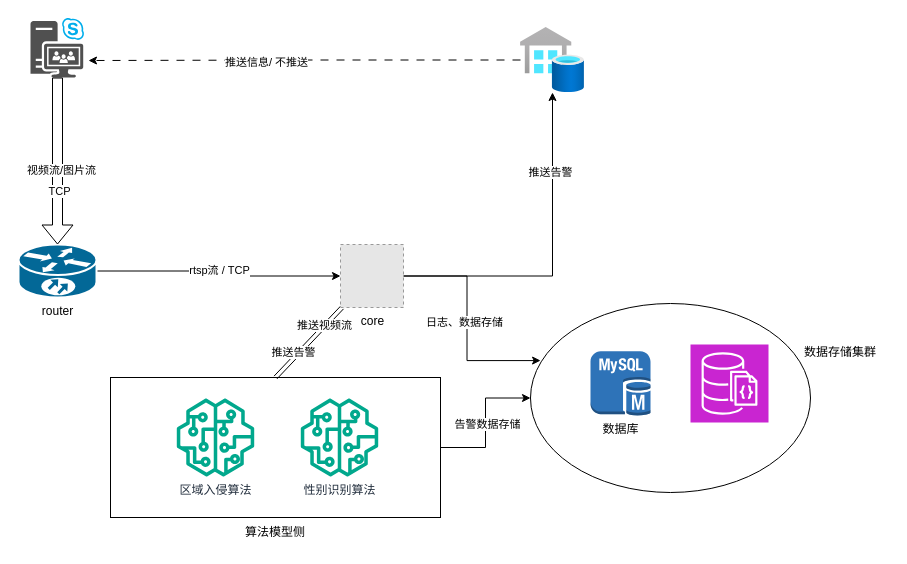
Some shapes in this 907 by 564 pixel diagram are drawn without their labels. Grey dashed boxes stand in for pictures. Here are the shapes that lost their labels. From the top down, the centre of each, then its label:
At point (57, 47): "公安视综平台".
At point (552, 59): "算法仓平台".
At point (729, 383): "文件存储".
